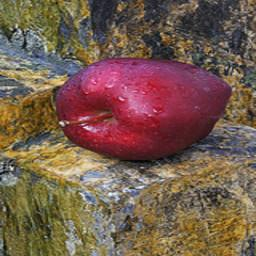apple: (53, 58, 234, 164)
